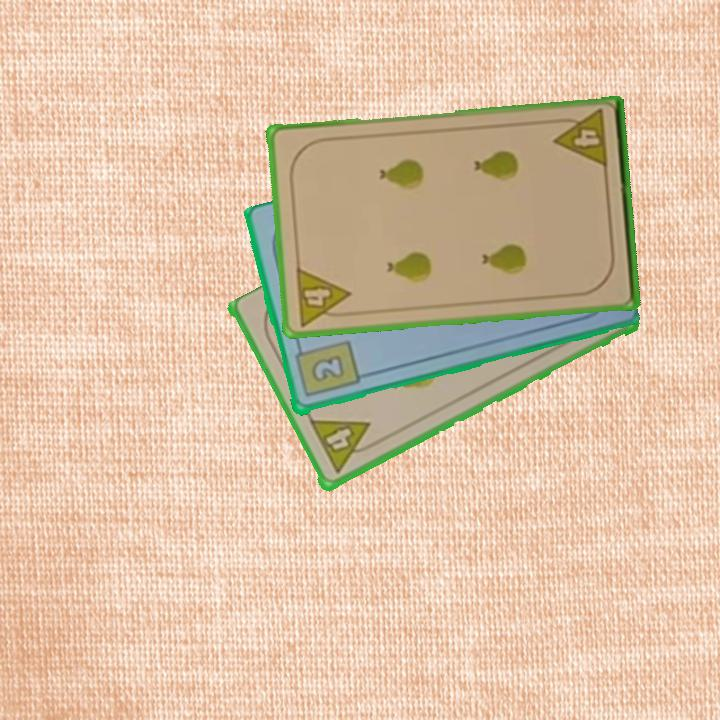2b: (291, 337, 362, 401)
4p: (306, 416, 381, 477), (292, 264, 355, 329), (550, 106, 611, 171)
